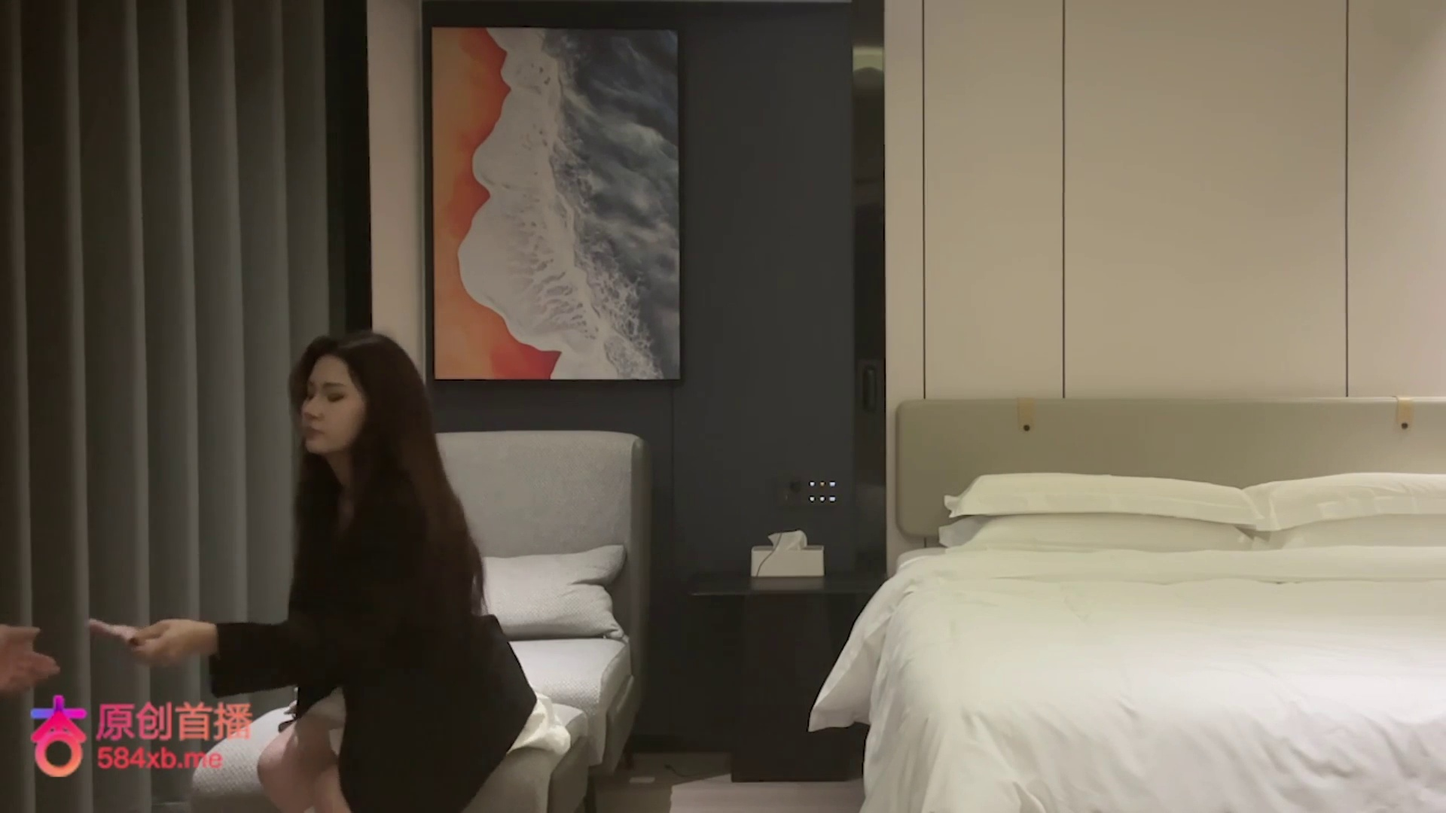sit: (109, 330, 553, 810)
